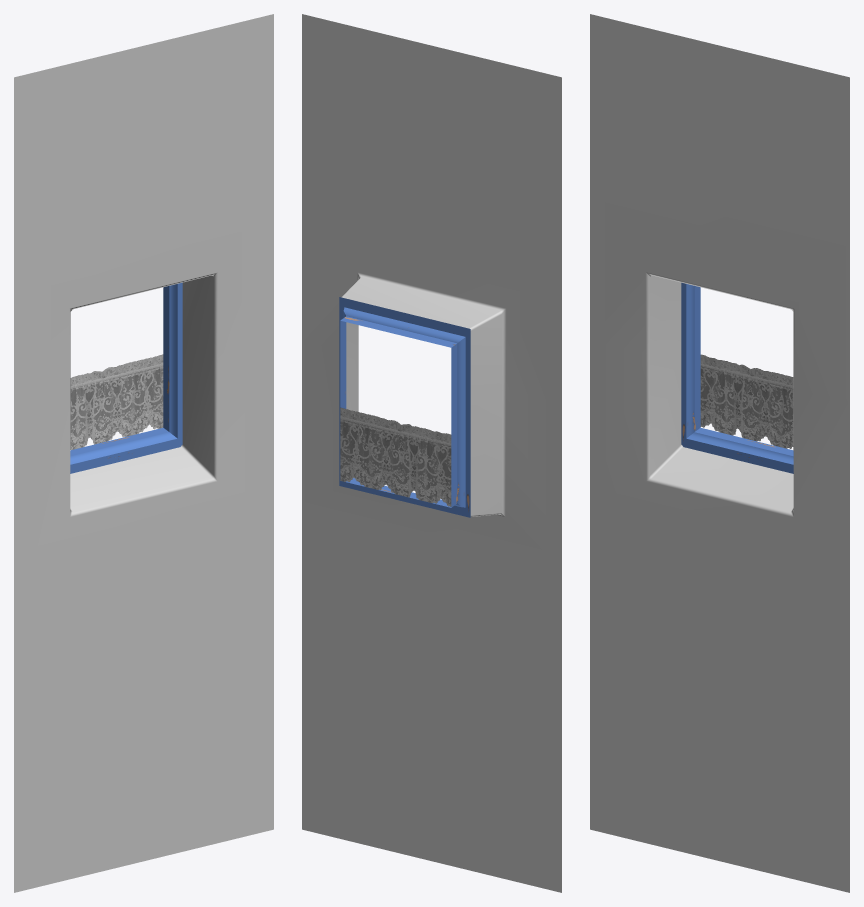
The model's file is WallSamllWindow.fbx.
The picture shows the model from 3 angles, left to right: view 1: azimuth 30°, elevation 25°; view 2: azimuth 150°, elevation 25°; view 3: azimuth 330°, elevation 25°; orthographic projection.
Parts seen in each view (by area): view 1: WallSamllWindow; view 2: WallSamllWindow; view 3: WallSamllWindow.
Part boxes in pixels (x1,y1,x2,y2): WallSamllWindow: [14, 14, 273, 892]; WallSamllWindow: [302, 14, 561, 892]; WallSamllWindow: [590, 14, 849, 892].
Bounding box in the file's own units: 100 × 300 × 24.15.
3 materials, 2 textured.
